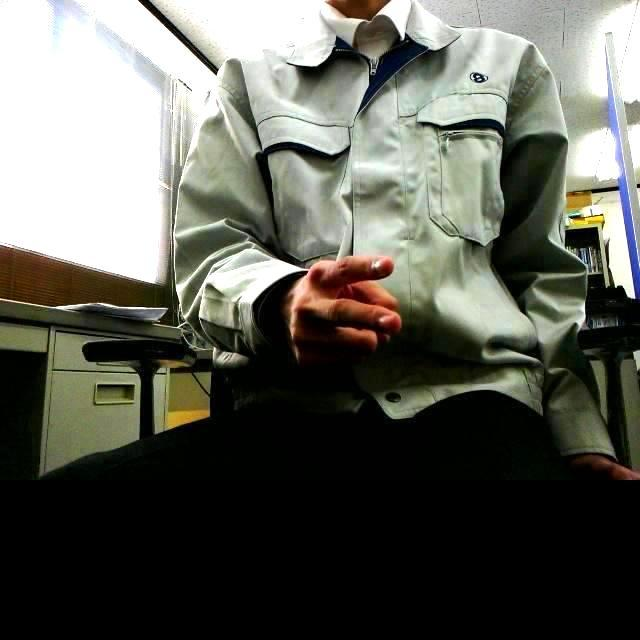tyoki: (287, 251, 399, 369)
